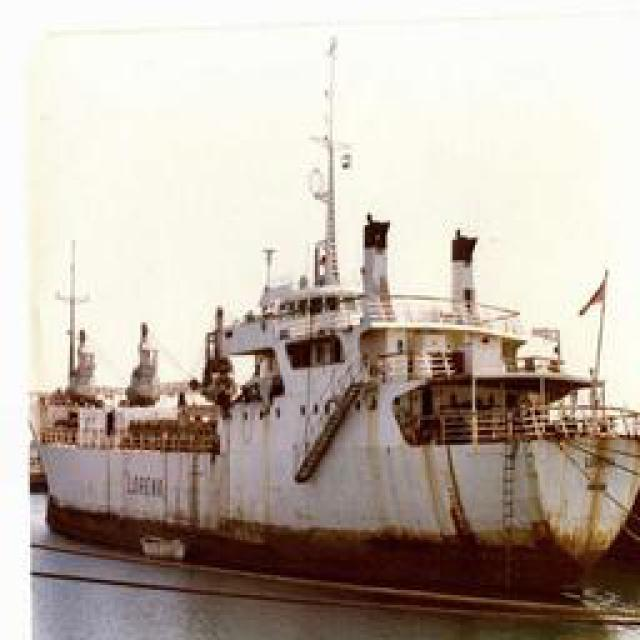Ship: (44, 168, 634, 593)
